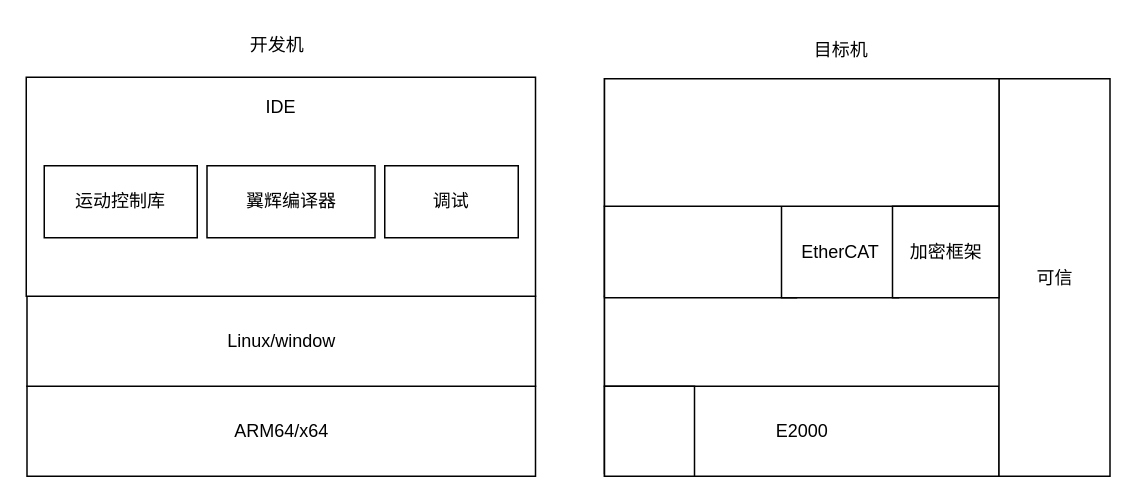
Some shapes in this 1137 by 503 pixel diagram are drawn without their labels. The centre of each missing label's shape, as x and y in pixels:
"PLC" belongs at (801,141).
"RTS" belongs at (699,251).
"SylixOS" belongs at (802,340).
"TPM" belongs at (648,430).
